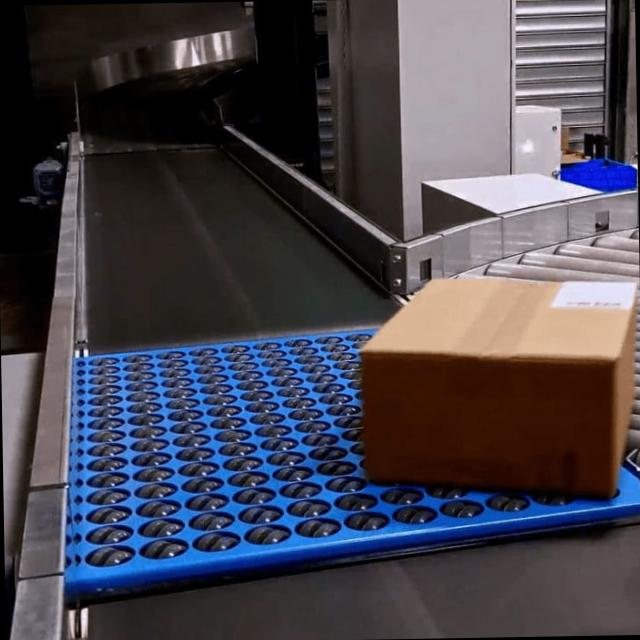box: (357, 275, 640, 504)
